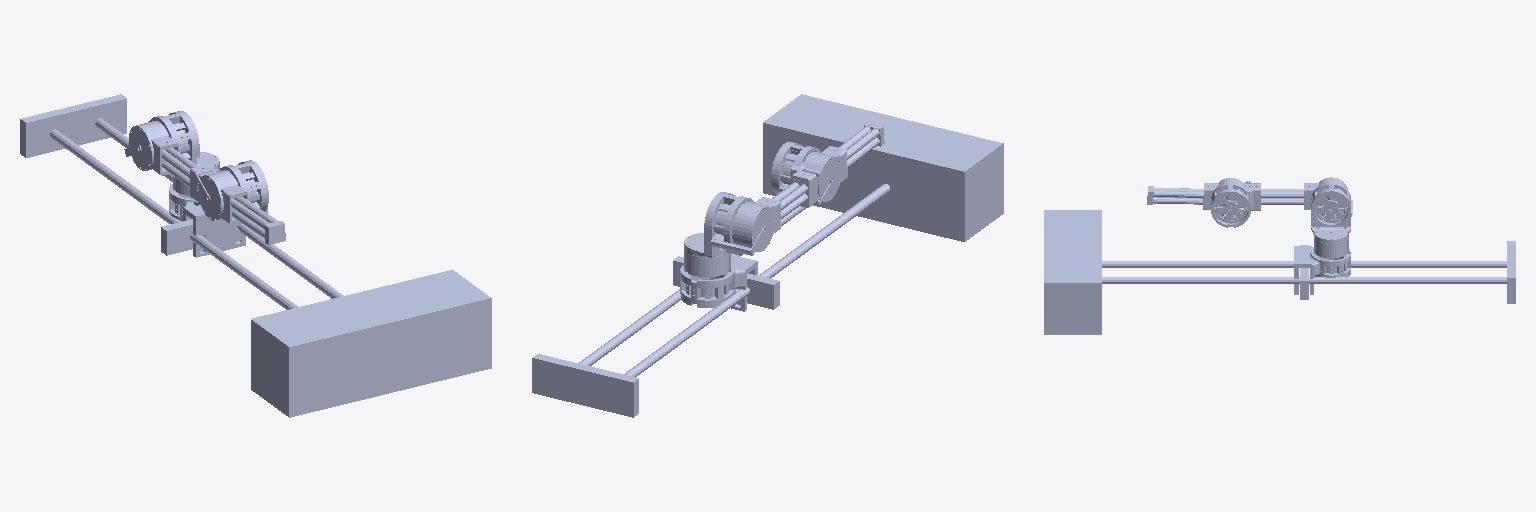
URDF robot description (LA_PATA_SOLA):
<?xml version="1.0" encoding="utf-8"?>
<!-- URDF exportado desde SolidWorks — adaptado para el paquete ROS 2 'parcial2'
     Links:   base_link → link_c → link_p → link_r → efector (fixed)
     Joints:  joint_c (revolute) | joint_p (revolute) | joint_r (revolute) | efector_joint (fixed)
-->
<robot name="LA_PATA_SOLA">

  <!-- ═══════════════════════════════════════════════════════════
       BASE_LINK  (cuerpo fijo / cadera)
  ═══════════════════════════════════════════════════════════════ -->
  <link name="base_link">
    <inertial>
      <origin xyz="-0.0010139 -0.76392 -0.0089359" rpy="0 0 0"/>
      <mass value="27.883"/>
      <inertia ixx="3.1945"    ixy="-1.3605E-05" ixz="-1.7157E-06"
               iyy="0.82171"   iyz="-0.0002946"
               izz="3.8521"/>
    </inertial>
    <visual>
      <origin xyz="0 0 0" rpy="0 0 0"/>
      <geometry>
        <mesh filename="package://parcial2/meshes/base_link.STL"/>
      </geometry>
      <material name="">
        <color rgba="0.79216 0.81961 0.93333 1"/>
      </material>
    </visual>
    <collision>
      <origin xyz="0 0 0" rpy="0 0 0"/>
      <geometry>
        <mesh filename="package://parcial2/meshes/base_link.STL"/>
      </geometry>
    </collision>
  </link>

  <!-- ═══════════════════════════════════════════════════════════
       LINK_C  (coxa — eslabón 1)
       joint_c: traslación z=0.1439 m, eje de rot. Z negativo
  ═══════════════════════════════════════════════════════════════ -->
  <link name="link_c">
    <inertial>
      <origin xyz="-0.029627 0.0019444 0.0056029" rpy="0 0 0"/>
      <mass value="0.98211"/>
      <inertia ixx="0.0025719" ixy="-4.7488E-06" ixz="0.00037503"
               iyy="0.0023379" iyz="2.8924E-06"
               izz="0.002486"/>
    </inertial>
    <visual>
      <origin xyz="0 0 0" rpy="0 0 0"/>
      <geometry>
        <mesh filename="package://parcial2/meshes/link_c.STL"/>
      </geometry>
      <material name="">
        <color rgba="0.79216 0.81961 0.93333 1"/>
      </material>
    </visual>
    <collision>
      <origin xyz="0 0 0" rpy="0 0 0"/>
      <geometry>
        <mesh filename="package://parcial2/meshes/link_c.STL"/>
      </geometry>
    </collision>
  </link>

  <joint name="joint_c" type="revolute">
    <origin xyz="0 0 0.1439" rpy="0 0 0"/>
    <parent link="base_link"/>
    <child  link="link_c"/>
    <axis xyz="0 0 -1"/>
    <limit lower="-1.57" upper="1.57" effort="0" velocity="0"/>
  </joint>

  <!-- ═══════════════════════════════════════════════════════════
       LINK_P  (fémur — eslabón 2)
       joint_p: traslación (-0.0403, 0, 0.075) + RPY(π/2, 0, -π/2)
  ═══════════════════════════════════════════════════════════════ -->
  <link name="link_p">
    <inertial>
      <origin xyz="0.18355 0.00017154 0.067984" rpy="0 0 0"/>
      <mass value="1.0339"/>
      <inertia ixx="0.0018527" ixy="-4.3892E-06" ixz="0.00040357"
               iyy="0.0029183" iyz="6.5247E-06"
               izz="0.0034221"/>
    </inertial>
    <visual>
      <origin xyz="0 0 0" rpy="0 0 0"/>
      <geometry>
        <mesh filename="package://parcial2/meshes/link_p.STL"/>
      </geometry>
      <material name="">
        <color rgba="0.79216 0.81961 0.93333 1"/>
      </material>
    </visual>
    <collision>
      <origin xyz="0 0 0" rpy="0 0 0"/>
      <geometry>
        <mesh filename="package://parcial2/meshes/link_p.STL"/>
      </geometry>
    </collision>
  </link>

  <joint name="joint_p" type="revolute">
    <origin xyz="-0.0403 0 0.075" rpy="1.5708 0 -1.5706"/>
    <parent link="link_c"/>
    <child  link="link_p"/>
    <axis xyz="0 0 -1"/>
    <limit lower="-1.57" upper="1.57" effort="0" velocity="0"/>
  </joint>

  <!-- ═══════════════════════════════════════════════════════════
       LINK_R  (tibia — eslabón 3)
       joint_r: traslación (0.3505, -2.9381E-05, -0.00365) + yaw=0.026978 rad
  ═══════════════════════════════════════════════════════════════ -->
  <link name="link_r">
    <inertial>
      <origin xyz="0.046727 -4.0442E-09 0.088605" rpy="0 0 0"/>
      <mass value="0.52233"/>
      <inertia ixx="0.00057437" ixy="1.1769E-10"  ixz="-8.5393E-06"
               iyy="0.00125"   iyz="-2.6679E-10"
               izz="0.0016594"/>
    </inertial>
    <visual>
      <origin xyz="0 0 0" rpy="0 0 0"/>
      <geometry>
        <mesh filename="package://parcial2/meshes/link_r.STL"/>
      </geometry>
      <material name="">
        <color rgba="0.79216 0.81961 0.93333 1"/>
      </material>
    </visual>
    <collision>
      <origin xyz="0 0 0" rpy="0 0 0"/>
      <geometry>
        <mesh filename="package://parcial2/meshes/link_r.STL"/>
      </geometry>
    </collision>
  </link>

  <joint name="joint_r" type="revolute">
    <origin xyz="0.3505 -2.9381E-05 -0.00365" rpy="0 0 0.026978"/>
    <parent link="link_p"/>
    <child  link="link_r"/>
    <axis xyz="0 0 -1"/>
    <limit lower="-1.57" upper="1.57" effort="0" velocity="0"/>
  </joint>

  <!-- ═══════════════════════════════════════════════════════════
       EFECTOR  (end-effector — joint FIJO, no consume DOF)
       efector_joint: traslación (0.2905, -0.0010066, 0.093563)
                      RPY(-0.18364, 1.5696, 1.3872)
  ═══════════════════════════════════════════════════════════════ -->
  <link name="efector">
    <inertial>
      <origin xyz="-0.00040133 0.0078149 -0.0004394" rpy="0 0 0"/>
      <mass value="0.034795"/>
      <inertia ixx="8.5047E-06" ixy="9.8465E-08" ixz="2.0066E-08"
               iyy="1.5026E-05" iyz="1.0985E-07"
               izz="8.5086E-06"/>
    </inertial>
    <visual>
      <origin xyz="0 0 0" rpy="0 0 0"/>
      <geometry>
        <mesh filename="package://parcial2/meshes/efector.STL"/>
      </geometry>
      <material name="">
        <color rgba="0.79216 0.81961 0.93333 1"/>
      </material>
    </visual>
    <collision>
      <origin xyz="0 0 0" rpy="0 0 0"/>
      <geometry>
        <mesh filename="package://parcial2/meshes/efector.STL"/>
      </geometry>
    </collision>
  </link>

  <joint name="efector_joint" type="fixed">
    <origin xyz="0.2905 -0.0010066 0.093563" rpy="-0.18364 1.5696 1.3872"/>
    <parent link="link_r"/>
    <child  link="efector"/>
    <axis xyz="0 0 0"/>
  </joint>

</robot>

--- Render facts (derived) ---
Views: 3 orthographic renders of the robot side by side, from view 1: azimuth 30°, elevation 25°; view 2: azimuth 150°, elevation 25°; view 3: azimuth 270°, elevation 25°.
Model LA_PATA_SOLA with 5 links and 4 joints (3 revolute, 1 fixed), rooted at base_link, posed all joints at 0.
Links seen in each view (by area): view 1: base_link, link_p, link_r, link_c; view 2: base_link, link_p, link_c, link_r; view 3: base_link, link_p, link_c, link_r.
Link boxes in pixels (x1,y1,x2,y2): base_link: (20,94,491,417); link_p: (129,121,268,211); link_r: (198,170,277,238); link_c: (124,111,219,198); base_link: (532,94,1003,417); link_p: (716,142,833,251); link_c: (684,192,766,296); link_r: (783,126,879,201); base_link: (1044,210,1515,334); link_p: (1211,177,1347,227); link_c: (1311,182,1352,272); link_r: (1153,178,1244,219).
Size in the robot's own frame: 0.6 by 1.64 by 0.3986 metres.
5 mesh visuals loaded from 5 distinct referenced files (5 binary STL).
